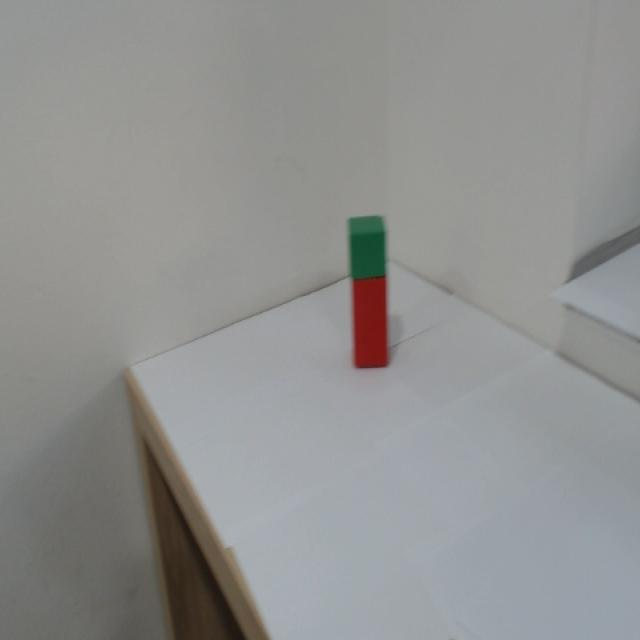cube: (345, 195, 396, 274)
